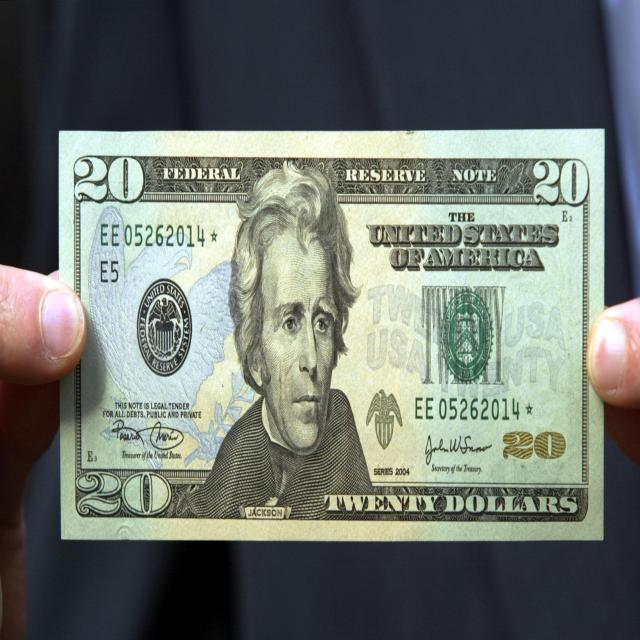20-Front: (61, 127, 604, 542)
